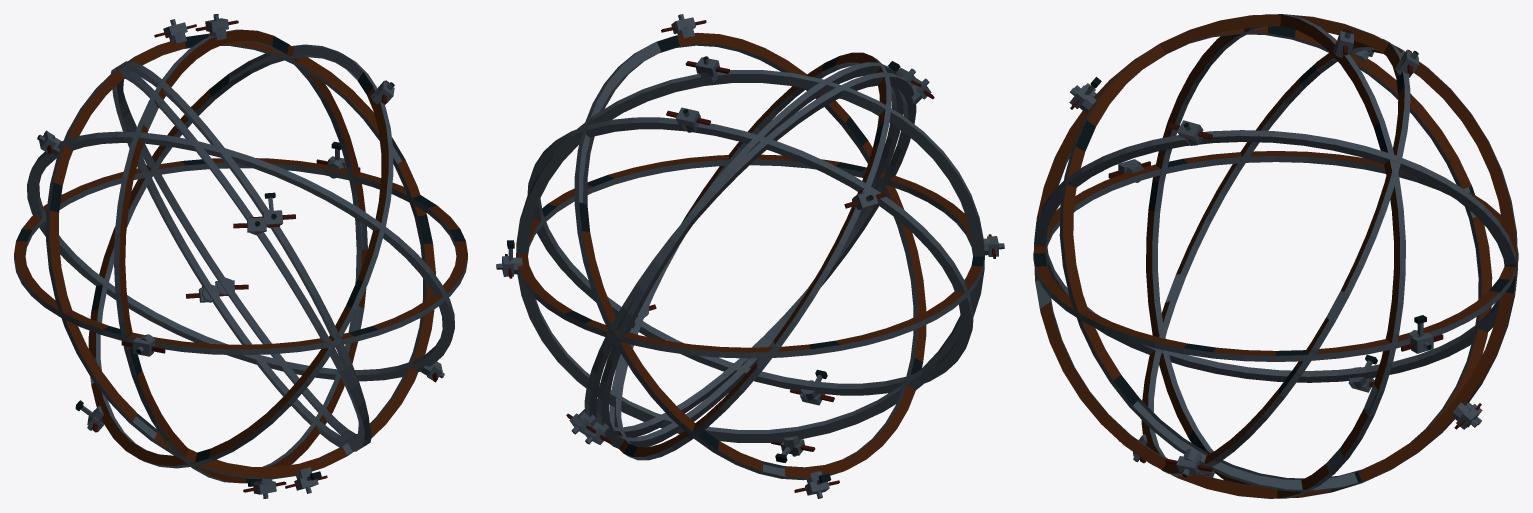
The model's file is dyson.obj.
3 views of the same model, side by side, from view 1: azimuth 30°, elevation 25°; view 2: azimuth 150°, elevation 25°; view 3: azimuth 270°, elevation 25° (orthographic). The views are drawn at different scales.
Visible parts, largest first — view 1: DYSON; view 2: DYSON; view 3: DYSON.
Boxes of the visible parts, x1,y1,x2,y2 form: DYSON: [14, 14, 467, 498]; DYSON: [496, 14, 1004, 498]; DYSON: [1033, 14, 1518, 498].
Bounding box in the file's own units: 8.2 × 8.59 × 8.2.
